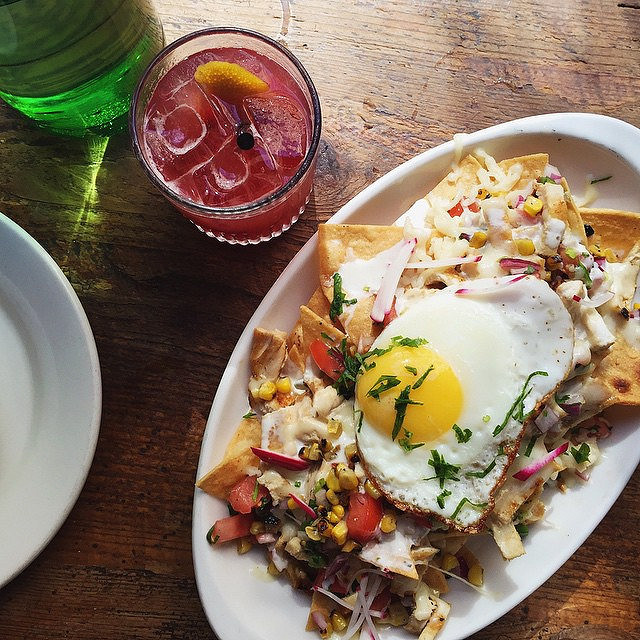fried egg: (354, 280, 551, 514)
